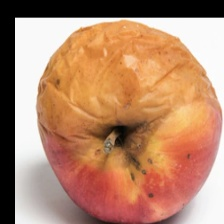apple: (24, 49, 224, 211)
